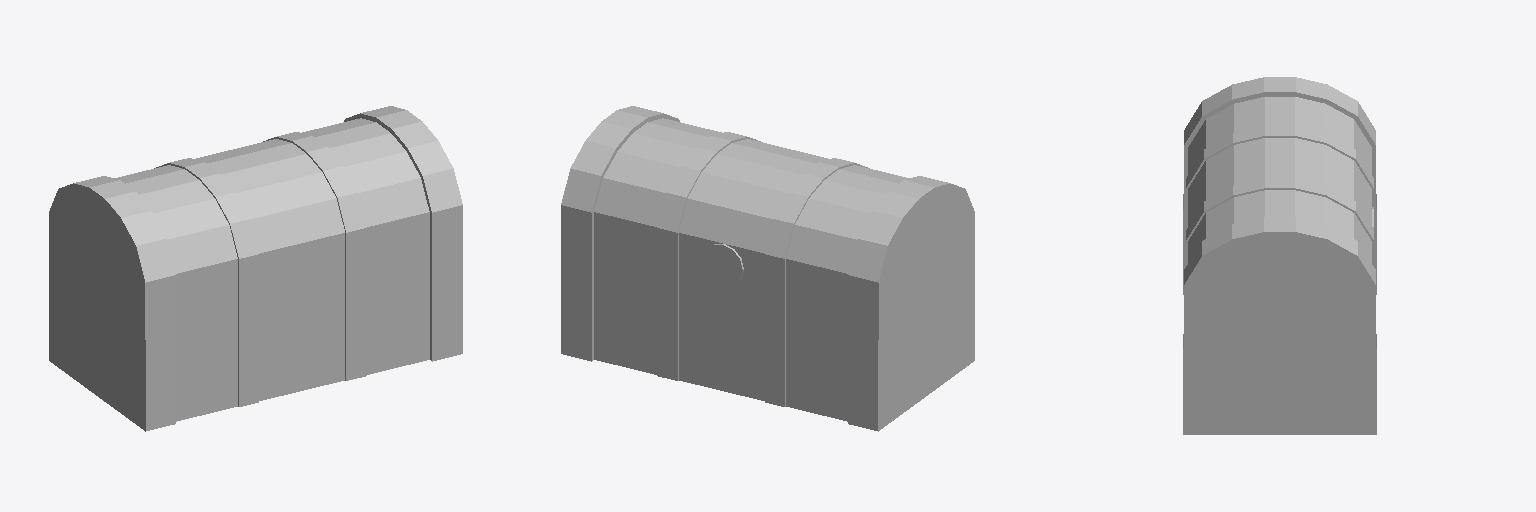
File: tresure.obj
The picture shows the model from 3 angles: view 1: azimuth 30°, elevation 25°; view 2: azimuth 150°, elevation 25°; view 3: azimuth 270°, elevation 25°; orthographic projection.
Visible parts, largest first — view 1: treasure_chest; view 2: treasure_chest; view 3: treasure_chest.
Boxes of the visible parts, box(x1,y1,x2,y2) form: treasure_chest: box(49, 106, 462, 431); treasure_chest: box(561, 106, 974, 431); treasure_chest: box(1183, 77, 1376, 434).
Size of the model in its own units: 1.92 by 1.17 by 1.01.